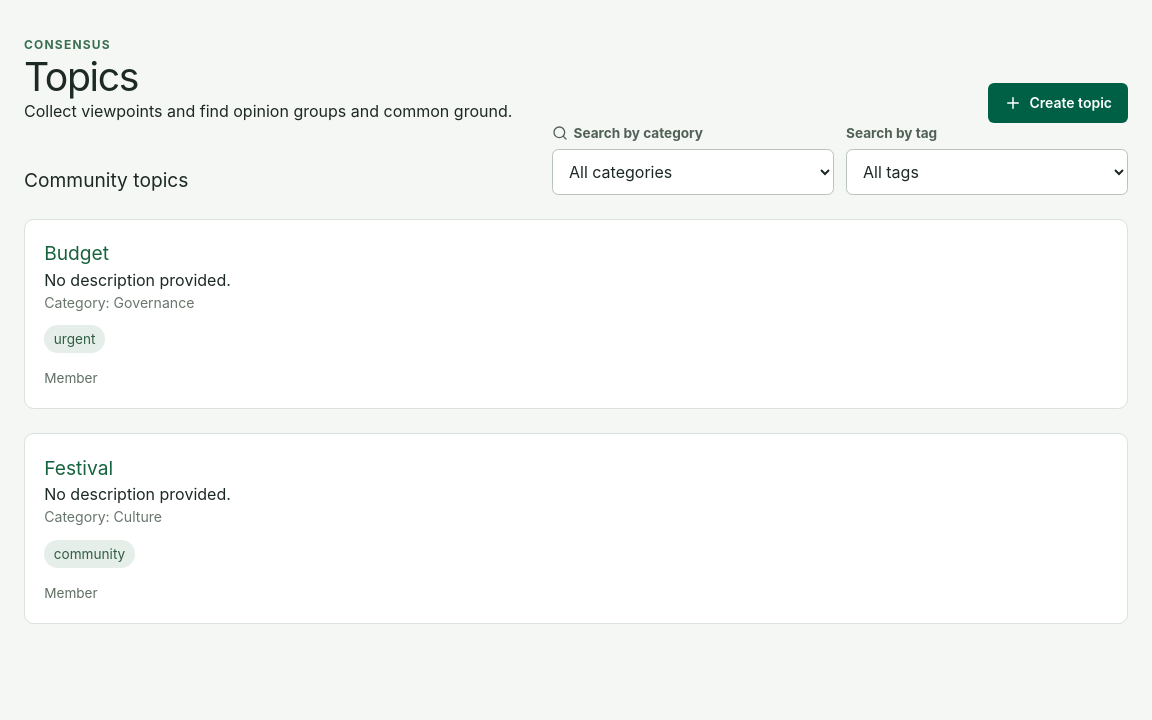
it: TopicsPage › requests and displays topics in the selected category
Expected: the link "Budget" is shown, [44,241,109,265]
Expected: the link "Festival" is shown, [44,456,113,480]
Select "Governance" in the dropdown labelled "Search by category": (693,172) [552,149,834,195]
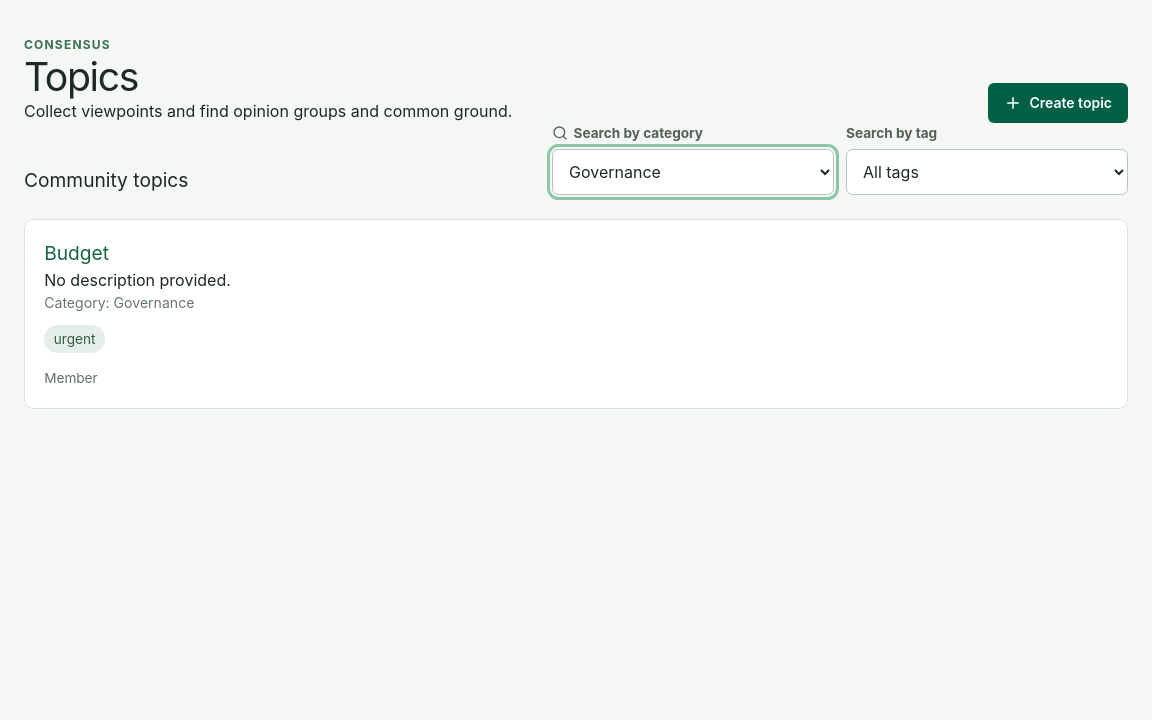
Expected: the link "Budget" is shown, [44,241,109,265]
Expected: the link "Festival" is gone
